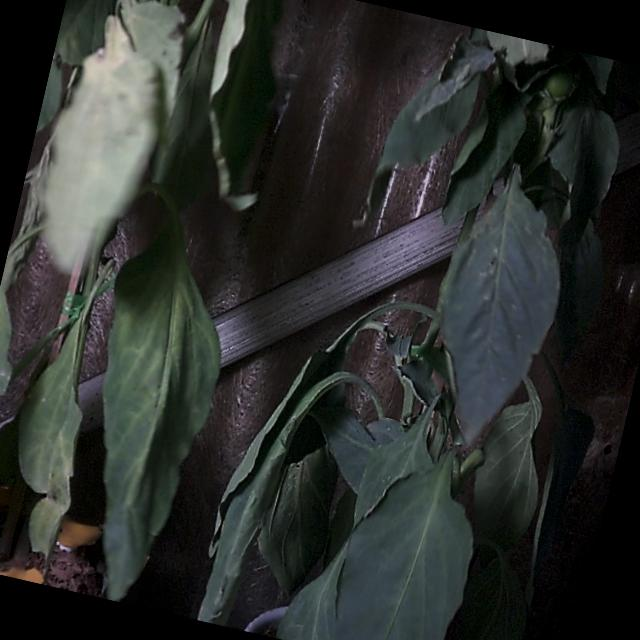Leaf: (102, 220, 219, 600), (440, 167, 559, 443), (43, 16, 158, 272), (332, 452, 472, 639), (360, 69, 478, 222), (17, 320, 80, 557), (473, 378, 541, 549), (442, 85, 525, 225), (257, 447, 337, 591), (458, 556, 526, 639), (55, 0, 114, 65), (0, 291, 10, 395)
